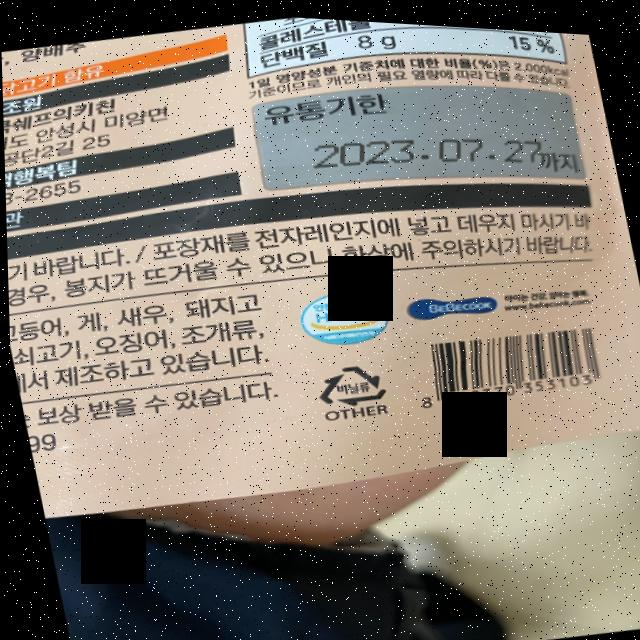Vinyl: (307, 352, 388, 411)
